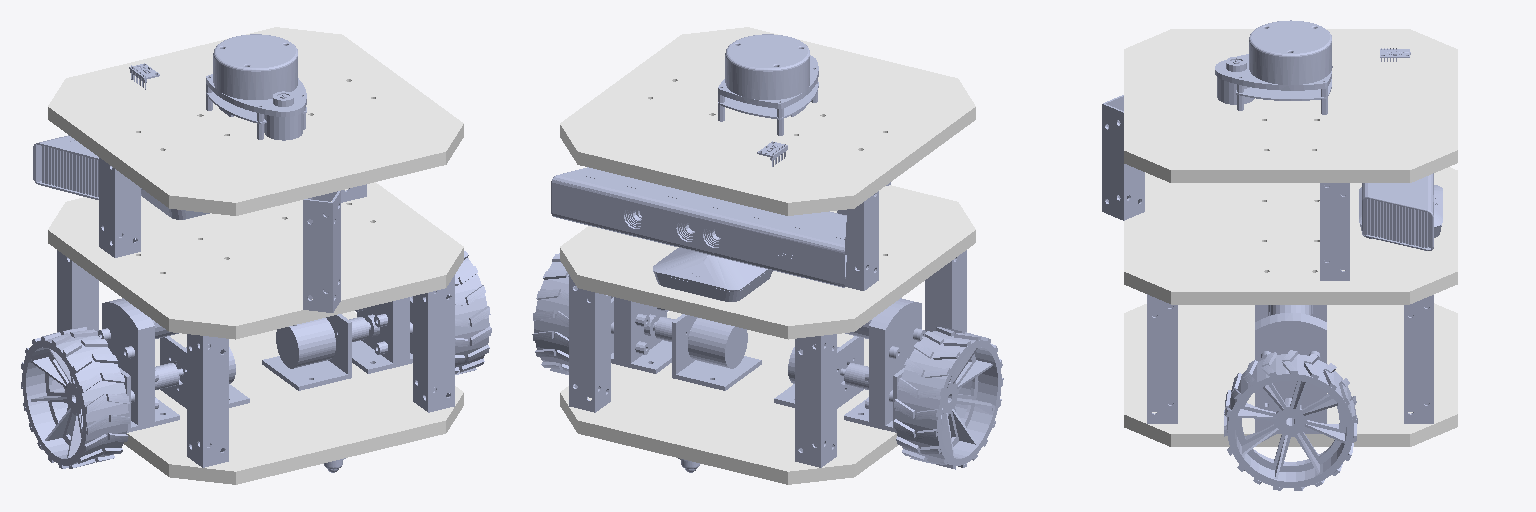
--- Facts derived from the render (not from the file) ---
The picture shows the robot from 3 angles, left to right: view 1: azimuth 30°, elevation 25°; view 2: azimuth 150°, elevation 25°; view 3: azimuth 270°, elevation 25°; orthographic projection.
Robot: turtlebot3_pro_max123 — 31 links, 30 joints (6 continuous, 24 fixed); root link Ground Floor; default pose: every joint at zero.
Visible links, largest first — view 1: Second_Floor, First_Floor, Ground Floor, Ground_Floor_Vertical_Links, Right_Wheel, RP_LiDAR_A1, First_Floor_Vertical_Links, Right_Motor, Left_Wheel, Kinect_Camera, Left_Encoder_Angle_Plate, Left_Motor (+4 smaller); view 2: Second_Floor, Ground Floor, First_Floor, Kinect_Camera, Ground_Floor_Vertical_Links, Right_Wheel, RP_LiDAR_A1, Right_Motor, Kinect_Base, Left_Wheel, First_Floor_Vertical_Links, Left_Encoder_Angle_Plate (+5 smaller); view 3: Second_Floor, First_Floor, Ground Floor, Left_Wheel, RP_LiDAR_A1, Ground_Floor_Vertical_Links, First_Floor_Vertical_Links, Kinect_Camera, Left_Motor, Left_Motor_Plate, Kinect_Base.
Boxes of the visible links, bbox=[...] form: Second_Floor: bbox=[48, 27, 463, 215]; First_Floor: bbox=[48, 182, 463, 339]; Ground Floor: bbox=[124, 311, 463, 484]; Ground_Floor_Vertical_Links: bbox=[57, 250, 454, 467]; Right_Wheel: bbox=[21, 326, 130, 468]; RP_LiDAR_A1: bbox=[206, 34, 306, 140]; First_Floor_Vertical_Links: bbox=[99, 158, 366, 312]; Right_Motor: bbox=[98, 298, 178, 425]; Left_Wheel: bbox=[411, 251, 491, 374]; Kinect_Camera: bbox=[33, 135, 142, 199]; Left_Encoder_Angle_Plate: bbox=[262, 314, 351, 390]; Left_Motor: bbox=[355, 297, 412, 363]; Second_Floor: bbox=[560, 27, 975, 215]; Ground Floor: bbox=[560, 311, 897, 484]; First_Floor: bbox=[560, 185, 975, 339]; Kinect_Camera: bbox=[551, 167, 846, 287]; Ground_Floor_Vertical_Links: bbox=[569, 250, 966, 467]; Right_Wheel: bbox=[894, 327, 1003, 469]; RP_LiDAR_A1: bbox=[718, 34, 818, 135]; Right_Motor: bbox=[845, 298, 925, 425]; Kinect_Base: bbox=[653, 248, 772, 301]; Left_Wheel: bbox=[532, 253, 612, 374]; First_Floor_Vertical_Links: bbox=[837, 182, 890, 290]; Left_Encoder_Angle_Plate: bbox=[672, 314, 761, 390]; Second_Floor: bbox=[1124, 29, 1457, 182]; First_Floor: bbox=[1124, 167, 1457, 304]; Ground Floor: bbox=[1124, 303, 1457, 446]; Left_Wheel: bbox=[1224, 350, 1357, 490]; RP_LiDAR_A1: bbox=[1215, 20, 1332, 114]; Ground_Floor_Vertical_Links: bbox=[1147, 294, 1433, 423]; First_Floor_Vertical_Links: bbox=[1102, 95, 1349, 280]; Kinect_Camera: bbox=[1362, 173, 1433, 250]; Left_Motor: bbox=[1255, 305, 1326, 404]; Left_Motor_Plate: bbox=[1255, 380, 1326, 433]; Kinect_Base: bbox=[1359, 185, 1442, 238].
Size in the robot's own frame: 0.383 by 0.298 by 0.3307 metres.
30 mesh visuals loaded from 31 distinct referenced files (30 binary STL); not drawn: 1 (reference not matched to a file when rendering).

URDF robot description (turtlebot3_pro_max123):
<?xml version="1.0" encoding="utf-8"?>
<!-- This URDF was automatically created by SolidWorks to URDF Exporter! Originally created by Stephen Brawner ([email redacted]) 
     Commit Version: 1.6.0-1-g15f4949  Build Version: 1.6.7594.29634
     For more information, please see http://wiki.ros.org/sw_urdf_exporter -->
<robot
  name="turtlebot3_pro_max123">
  <link
    name="Ground Floor">
    <inertial>
      <origin
        xyz="4.70304717569314E-19 -1.51383696413054E-18 0.006"
        rpy="0 0 0" />
      <mass
        value="0.306175115098668" />
      <inertia
        ixx="0.00188258342887214"
        ixy="-1.06344407501349E-19"
        ixz="-9.60175745415004E-23"
        iyy="0.0018791495675708"
        iyz="1.14475544064493E-19"
        izz="0.00375438479368057" />
    </inertial>
    <visual>
      <origin
        xyz="0 0 0"
        rpy="0 0 0" />
      <geometry>
        <mesh
          filename="package://turtlebot3_pro_max123/meshes/Ground Floor.STL" />
      </geometry>
      <material
        name="">
        <color
          rgba="1 1 1 1" />
      </material>
    </visual>
    <collision>
      <origin
        xyz="0 0 0"
        rpy="0 0 0" />
      <geometry>
        <mesh
          filename="package://turtlebot3_pro_max123/meshes/Ground Floor_collision.STL" />
      </geometry>
    </collision>
  </link>
  <link
    name="Ground_Floor_Vertical_Links">
    <inertial>
      <origin
        xyz="-0.1073 -8.32667268468867E-17 -0.1073"
        rpy="0 0 0" />
      <mass
        value="0.0873427258771282" />
      <inertia
        ixx="0.000110813104969509"
        ixy="1.68389366232844E-08"
        ixz="1.07557713438902E-21"
        iyy="1.60586974010864E-05"
        iyz="-1.68389366232222E-08"
        izz="0.000110813104969509" />
    </inertial>
    <visual>
      <origin
        xyz="0 0 0"
        rpy="0 0 0" />
      <geometry>
        <mesh
          filename="package://turtlebot3_pro_max123/meshes/Ground_Floor_Vertical_Links.STL" />
      </geometry>
      <material
        name="">
        <color
          rgba="0.792156862745098 0.819607843137255 0.933333333333333 1" />
      </material>
    </visual>
    <collision>
      <origin
        xyz="0 0 0"
        rpy="0 0 0" />
      <geometry>
        <mesh
          filename="package://turtlebot3_pro_max123/meshes/Ground_Floor_Vertical_Links_collision.STL" />
      </geometry>
    </collision>
  </link>
  <joint
    name="Ground_Floor_Vertical_Links_Joint"
    type="fixed">
    <origin
      xyz="0.1073 0.1073 0.0720000000000001"
      rpy="1.5707963267949 0 1.5707963267949" />
    <parent
      link="Ground Floor" />
    <child
      link="Ground_Floor_Vertical_Links" />
    <axis
      xyz="0 0 0" />
  </joint>
  <link
    name="First_Floor">
    <inertial>
      <origin
        xyz="-7.86566268856647E-18 0.00600000000000023 3.94665955637125E-17"
        rpy="0 0 0" />
      <mass
        value="0.306175115098668" />
      <inertia
        ixx="0.00188258342887214"
        ixy="5.77401645268386E-24"
        ixz="-9.25547897022068E-20"
        iyy="0.00375438479368056"
        iyz="7.06684763120197E-19"
        izz="0.0018791495675708" />
    </inertial>
    <visual>
      <origin
        xyz="0 0 0"
        rpy="0 0 0" />
      <geometry>
        <mesh
          filename="package://turtlebot3_pro_max123/meshes/First_Floor.STL" />
      </geometry>
      <material
        name="">
        <color
          rgba="1 1 1 1" />
      </material>
    </visual>
    <collision>
      <origin
        xyz="0 0 0"
        rpy="0 0 0" />
      <geometry>
        <mesh
          filename="package://turtlebot3_pro_max123/meshes/First_Floor_collision.STL" />
      </geometry>
    </collision>
  </link>
  <joint
    name="First_Floor_Joint"
    type="fixed">
    <origin
      xyz="-0.1073 0.06 -0.1073"
      rpy="0 -1.5708 0" />
    <parent
      link="Ground_Floor_Vertical_Links" />
    <child
      link="First_Floor" />
    <axis
      xyz="0 0 0" />
  </joint>
  <link
    name="First_Floor_Vertical_Links">
    <inertial>
      <origin
        xyz="0.0974764231260202 -3.60822483003176E-16 0.0974766645992801"
        rpy="0 0 0" />
      <mass
        value="0.054275044407846" />
      <inertia
        ixx="4.94997932361172E-05"
        ixy="8.41946831165636E-09"
        ixz="0"
        iyy="9.9789824108148E-06"
        iyz="8.41946831165525E-09"
        izz="4.94997932361172E-05" />
    </inertial>
    <visual>
      <origin
        xyz="0 0 0"
        rpy="0 0 0" />
      <geometry>
        <mesh
          filename="package://turtlebot3_pro_max123/meshes/First_Floor_Vertical_Links.STL" />
      </geometry>
      <material
        name="">
        <color
          rgba="0.792156862745098 0.819607843137255 0.933333333333333 1" />
      </material>
    </visual>
    <collision>
      <origin
        xyz="0 0 0"
        rpy="0 0 0" />
      <geometry>
        <mesh
          filename="package://turtlebot3_pro_max123/meshes/First_Floor_Vertical_Links_collision.STL" />
      </geometry>
    </collision>
  </link>
  <joint
    name="First_Floor_Vertical_Links_Joint"
    type="fixed">
    <origin
      xyz="0 0.0619999999999999 -0.122039487757862"
      rpy="0 -0.785398163397447 -3.14159265358979" />
    <parent
      link="First_Floor" />
    <child
      link="First_Floor_Vertical_Links" />
    <axis
      xyz="0 0 0" />
  </joint>
  <link
    name="Second_Floor">
    <inertial>
      <origin
        xyz="-4.59978908314626E-17 0.00600000000000059 2.12960309672514E-18"
        rpy="0 0 0" />
      <mass
        value="0.306175115098668" />
      <inertia
        ixx="0.00188258342887214"
        ixy="1.06184538248409E-18"
        ixz="-1.15660529150226E-20"
        iyy="0.00375438479368057"
        iyz="2.28899169636148E-19"
        izz="0.0018791495675708" />
    </inertial>
    <visual>
      <origin
        xyz="0 0 0"
        rpy="0 0 0" />
      <geometry>
        <mesh
          filename="package://turtlebot3_pro_max123/meshes/Second_Floor.STL" />
      </geometry>
      <material
        name="">
        <color
          rgba="1 1 1 1" />
      </material>
    </visual>
    <collision>
      <origin
        xyz="0 0 0"
        rpy="0 0 0" />
      <geometry>
        <mesh
          filename="package://turtlebot3_pro_max123/meshes/Second_Floor_collision.STL" />
      </geometry>
    </collision>
  </link>
  <joint
    name="Second_Floor_Joint"
    type="fixed">
    <origin
      xyz="0.0862949493661165 -0.05 0.0862949493661169"
      rpy="3.14159265358979 0.785398163397447 0" />
    <parent
      link="First_Floor_Vertical_Links" />
    <child
      link="Second_Floor" />
    <axis
      xyz="0 0 0" />
  </joint>
  <link
    name="MPU9250">
    <inertial>
      <origin
        xyz="-0.118217830949175 -0.00104259470994378 -0.162868160967249"
        rpy="0 0 0" />
      <mass
        value="0.000628851677164537" />
      <inertia
        ixx="2.84177895500367E-08"
        ixy="-3.75278292675917E-14"
        ixz="4.57750732123504E-14"
        iyy="3.75953504496454E-08"
        iyz="-4.2587819218147E-14"
        izz="1.06612939030681E-08" />
    </inertial>
    <visual>
      <origin
        xyz="0 0 0"
        rpy="0 0 0" />
      <geometry>
        <mesh
          filename="package://turtlebot3_pro_max123/meshes/MPU9250.STL" />
      </geometry>
      <material
        name="">
        <color
          rgba="0.792156862745098 0.819607843137255 0.933333333333333 1" />
      </material>
    </visual>
    <collision>
      <origin
        xyz="0 0 0"
        rpy="0 0 0" />
      <geometry>
        <mesh
          filename="package://turtlebot3_pro_max123/meshes/MPU9250_collision.STL" />
      </geometry>
    </collision>
  </link>
  <joint
    name="MPU9250_joint"
    type="fixed">
    <origin
      xyz="-0.0625950000000004 0.0295700000000001 -0.0751399999999997"
      rpy="3.14159265358979 0 3.14159265358979" />
    <parent
      link="Second_Floor" />
    <child
      link="MPU9250" />
    <axis
      xyz="0 0 0" />
  </joint>
  <link
    name="RP_LiDAR_A1">
    <inertial>
      <origin
        xyz="-0.0210078094365039 0.0106966269502565 -9.1634219840406E-05"
        rpy="0 0 0" />
      <mass
        value="1.3324811049663" />
      <inertia
        ixx="0.000615842284246016"
        ixy="-0.000158500451241491"
        ixz="7.98987037271028E-07"
        iyy="0.0010983934471466"
        iyz="-3.10024618929427E-06"
        izz="0.000961697044037426" />
    </inertial>
    <visual>
      <origin
        xyz="0 0 0"
        rpy="0 0 0" />
      <geometry>
        <mesh
          filename="package://turtlebot3_pro_max123/meshes/RP_LiDAR_A1.STL" />
      </geometry>
      <material
        name="">
        <color
          rgba="0.792156862745098 0.819607843137255 0.933333333333333 1" />
      </material>
    </visual>
    <collision>
      <origin
        xyz="0 0 0"
        rpy="0 0 0" />
      <geometry>
        <mesh
          filename="package://turtlebot3_pro_max123/meshes/RP_LiDAR_A1_collision.STL" />
      </geometry>
    </collision>
  </link>
  <joint
    name="RP_LiDAR_A1_Joint"
    type="fixed">
    <origin
      xyz="0 0.0366 0.0142499999999999"
      rpy="0 -1.5707963267949 0" />
    <parent
      link="Second_Floor" />
    <child
      link="RP_LiDAR_A1" />
    <axis
      xyz="0 0 0" />
  </joint>
  <link
    name="Kinect_Base">
    <inertial>
      <origin
        xyz="-0.00425918193058036 0.00943012756099207 -0.184943395044608"
        rpy="0 0 0" />
      <mass
        value="0.100919540065879" />
      <inertia
        ixx="3.77313887602913E-05"
        ixy="-6.5453153474285E-12"
        ixz="1.045286227031E-10"
        iyy="8.33159866791771E-05"
        iyz="-2.65982400359128E-10"
        izz="5.25438545962697E-05" />
    </inertial>
    <visual>
      <origin
        xyz="0 0 0"
        rpy="0 0 0" />
      <geometry>
        <mesh
          filename="package://turtlebot3_pro_max123/meshes/Kinect_Base.STL" />
      </geometry>
      <material
        name="">
        <color
          rgba="0.792156862745098 0.819607843137255 0.933333333333333 1" />
      </material>
    </visual>
    <collision>
      <origin
        xyz="0 0 0"
        rpy="0 0 0" />
      <geometry>
        <mesh
          filename="package://turtlebot3_pro_max123/meshes/Kinect_Base_collision.STL" />
      </geometry>
    </collision>
  </link>
  <joint
    name="Kinect_Base_Joint"
    type="fixed">
    <origin
      xyz="0.00212959588475317 0.0125 0.0924719063318718"
      rpy="0 0 0" />
    <parent
      link="First_Floor" />
    <child
      link="Kinect_Base" />
    <axis
      xyz="0 0 0" />
  </joint>
  <link
    name="Kinect_Camera">
    <inertial>
      <origin
        xyz="-0.00473113870691642 0.0188109981011434 -0.181056666701459"
        rpy="0 0 0" />
      <mass
        value="0.545535346057759" />
      <inertia
        ixx="0.000225893798697897"
        ixy="3.46017963839556E-08"
        ixz="-2.56609747502066E-06"
        iyy="0.0028794245905872"
        iyz="-1.47528550669068E-07"
        izz="0.00278997231042472" />
    </inertial>
    <visual>
      <origin
        xyz="0 0 0"
        rpy="0 0 0" />
      <geometry>
        <mesh
          filename="package://turtlebot3_pro_max123/meshes/Kinect_Camera.STL" />
      </geometry>
      <material
        name="">
        <color
          rgba="0.792156862745098 0.819607843137255 0.933333333333333 1" />
      </material>
    </visual>
    <collision>
      <origin
        xyz="0 0 0"
        rpy="0 0 0" />
      <geometry>
        <mesh
          filename="package://turtlebot3_pro_max123/meshes/Kinect_Camera_collision.STL" />
      </geometry>
    </collision>
  </link>
  <joint
    name="Kinect_Camera_Joint"
    type="fixed">
    <origin
      xyz="0.000138403787494056 0.034 -0.00247190633187176"
      rpy="0 0 0" />
    <parent
      link="Kinect_Base" />
    <child
      link="Kinect_Camera" />
    <axis
      xyz="0 0 0" />
  </joint>
  <link
    name="Front_Castor_Wheel">
    <inertial>
      <origin
        xyz="-0.254 2.88450778881281E-17 0.00452901974820012"
        rpy="0 0 0" />
      <mass
        value="0.00176851508275407" />
      <inertia
        ixx="7.19459865531897E-08"
        ixy="1.04003421744339E-22"
        ixz="4.19880617968765E-23"
        iyy="7.1945986553189E-08"
        iyz="2.56102315964772E-22"
        izz="9.78322787119691E-08" />
    </inertial>
    <visual>
      <origin
        xyz="0 0 0"
        rpy="0 0 0" />
      <geometry>
        <mesh
          filename="package://turtlebot3_pro_max123/meshes/Front_Castor_Wheel.STL" />
      </geometry>
      <material
        name="">
        <color
          rgba="0.792156862745098 0.819607843137255 0.933333333333333 1" />
      </material>
    </visual>
    <collision>
      <origin
        xyz="0 0 0"
        rpy="0 0 0" />
      <geometry>
        <mesh
          filename="package://turtlebot3_pro_max123/meshes/Front_Castor_Wheel_collision.STL" />
      </geometry>
    </collision>
  </link>
  <joint
    name="Front_Castor_Wheel_Joint"
    type="fixed">
    <origin
      xyz="0 -0.127 0"
      rpy="3.14159265358979 0 -1.5707963267949" />
    <parent
      link="Ground Floor" />
    <child
      link="Front_Castor_Wheel" />
    <axis
      xyz="0 0 0" />
  </joint>
  <link
    name="Front_Castor_Ball">
    <inertial>
      <origin
        xyz="0.254 0 2.01637250299425E-10"
        rpy="0 0 0" />
      <mass
        value="0.000523598775598299" />
      <inertia
        ixx="5.23598775598299E-09"
        ixy="-3.25208566183215E-57"
        ixz="9.3549344069031E-52"
        iyy="5.23598775598299E-09"
        iyz="4.44108029208484E-35"
        izz="5.23598775598299E-09" />
    </inertial>
    <visual>
      <origin
        xyz="0 0 0"
        rpy="0 0 0" />
      <geometry>
        <mesh
          filename="package://turtlebot3_pro_max123/meshes/Front_Castor_Ball.STL" />
      </geometry>
      <material
        name="">
        <color
          rgba="0.792156862745098 0.819607843137255 0.933333333333333 1" />
      </material>
    </visual>
    <collision>
      <origin
        xyz="0 0 0"
        rpy="0 0 0" />
      <geometry>
        <mesh
          filename="package://turtlebot3_pro_max123/meshes/Front_Castor_Ball_collision.STL" />
      </geometry>
    </collision>
  </link>
  <joint
    name="Front_Castor_Ball_Joint"
    type="fixed">
    <origin
      xyz="0 0 0.0119999998991814"
      rpy="0 0 3.14159265358979" />
    <parent
      link="Front_Castor_Wheel" />
    <child
      link="Front_Castor_Ball" />
    <axis
      xyz="0 0 0" />
  </joint>
  <link
    name="Back_Castor_Wheel">
    <inertial>
      <origin
        xyz="-1.99732395248982E-17 0.254 0.00452901974820007"
        rpy="0 0 0" />
      <mass
        value="0.00176851508275407" />
      <inertia
        ixx="7.19459865531896E-08"
        ixy="1.02595151896986E-22"
        ixz="-2.99121332209767E-23"
        iyy="7.19459865531889E-08"
        iyz="2.61586404997334E-22"
        izz="9.78322787119691E-08" />
    </inertial>
    <visual>
      <origin
        xyz="0 0 0"
        rpy="0 0 0" />
      <geometry>
        <mesh
          filename="package://turtlebot3_pro_max123/meshes/Back_Castor_Wheel.STL" />
      </geometry>
      <material
        name="">
        <color
          rgba="0.792156862745098 0.819607843137255 0.933333333333333 1" />
      </material>
    </visual>
    <collision>
      <origin
        xyz="0 0 0"
        rpy="0 0 0" />
      <geometry>
        <mesh
          filename="package://turtlebot3_pro_max123/meshes/Back_Castor_Wheel_collision.STL" />
      </geometry>
    </collision>
  </link>
  <joint
    name="Back_Castor_Wheel_Joint"
    type="fixed">
    <origin
      xyz="0 0.127 0"
      rpy="-3.14159265358979 0 0" />
    <parent
      link="Ground Floor" />
    <child
      link="Back_Castor_Wheel" />
    <axis
      xyz="0 0 0" />
  </joint>
  <link
    name="Back_Castor_Ball">
    <inertial>
      <origin
        xyz="-3.5808674788745E-17 -0.253999999899181 4.0327718595079E-10"
        rpy="0 0 0" />
      <mass
        value="0.000523598775598299" />
      <inertia
        ixx="5.23598775598299E-09"
        ixy="-5.16987882845663E-26"
        ixz="-2.06795153138256E-25"
        iyy="5.23598775598299E-09"
        iyz="5.16987882845642E-26"
        izz="5.23598775598299E-09" />
    </inertial>
    <visual>
      <origin
        xyz="0 0 0"
        rpy="0 0 0" />
      <geometry>
        <mesh
          filename="package://turtlebot3_pro_max123/meshes/Back_Castor_Ball.STL" />
      </geometry>
      <material
        name="">
        <color
          rgba="0.792156862745098 0.819607843137255 0.933333333333333 1" />
      </material>
    </visual>
    <collision>
      <origin
        xyz="0 0 0"
        rpy="0 0 0" />
      <geometry>
        <mesh
          filename="package://turtlebot3_pro_max123/meshes/Back_Castor_Ball_collision.STL" />
      </geometry>
    </collision>
  </link>
  <joint
    name="Back_Castor_Ball_Joint"
    type="fixed">
    <origin
      xyz="0 0 0.0120000001008186"
      rpy="-3.14159265358978 0 0" />
    <parent
      link="Back_Castor_Wheel" />
    <child
      link="Back_Castor_Ball" />
    <axis
      xyz="0 0 0" />
  </joint>
  <link
    name="Left_Encoder_Angle_Plate">
    <inertial>
      <origin
        xyz="4.00204699044691E-16 0.0147826849637491 -0.0134823723164557"
        rpy="0 0 0" />
      <mass
        value="0.0219254603042376" />
      <inertia
        ixx="1.11096889660457E-05"
        ixy="-3.62497572674904E-21"
        ixz="1.9290648439196E-20"
        iyy="1.2452291796096E-05"
        iyz="-3.21812145037989E-06"
        izz="1.24772407573447E-05" />
    </inertial>
    <visual>
      <origin
        xyz="0 0 0"
        rpy="0 0 0" />
      <geometry>
        <mesh
          filename="package://turtlebot3_pro_max123/meshes/Left_Encoder_Angle_Plate.STL" />
      </geometry>
      <material
        name="">
        <color
          rgba="0.792156862745098 0.819607843137255 0.933333333333333 1" />
      </material>
    </visual>
    <collision>
      <origin
        xyz="0 0 0"
        rpy="0 0 0" />
      <geometry>
        <mesh
          filename="package://turtlebot3_pro_max123/meshes/Left_Encoder_Angle_Plate.STL" />
      </geometry>
    </collision>
  </link>
  <joint
    name="Left_Encoder_Angle_Plate_Joint"
    type="fixed">
    <origin
      xyz="0.0739999999999819 0 0.012"
      rpy="-3.14159265358979 0 -1.5707963267949" />
    <parent
      link="Ground Floor" />
    <child
      link="Left_Encoder_Angle_Plate" />
    <axis
      xyz="0 0 0" />
  </joint>
  <link
    name="Left_Encoder">
    <inertial>
      <origin
        xyz="-2.07796140537508E-10 -9.19971150234455E-05 0.0180755929019836"
        rpy="0 0 0" />
      <mass
        value="0.0410483914806997" />
      <inertia
        ixx="8.2840083563058E-06"
        ixy="-1.57526967029876E-13"
        ixz="-3.75754148520815E-14"
        iyy="8.18832869190217E-06"
        iyz="-4.56008928061674E-08"
        izz="7.30004066465015E-06" />
    </inertial>
    <visual>
      <origin
        xyz="0 0 0"
        rpy="0 0 0" />
      <geometry>
        <mesh
          filename="package://turtlebot3_pro_max123/meshes/Left_Encoder.STL" />
      </geometry>
      <material
        name="">
        <color
          rgba="0.792156862745098 0.819607843137255 0.933333333333333 1" />
      </material>
    </visual>
    <collision>
      <origin
        xyz="0 0 0"
        rpy="0 0 0" />
      <geometry>
        <mesh
          filename="package://turtlebot3_pro_max123/meshes/Left_Encoder_collision.STL" />
      </geometry>
    </collision>
  </link>
  <joint
    name="Left_Encoder_Joint"
    type="fixed">
    <origin
      xyz="0 0.044 -0.0270000000000001"
      rpy="1.5707963267949 -0.0872664625996489 0" />
    <parent
      link="Left_Encoder_Angle_Plate" />
    <child
      link="Left_Encoder" />
    <axis
      xyz="0 0 0" />
  </joint>
  <link
    name="Left_Encoder_Shaft">
    <inertial>
      <origin
        xyz="4.77048955893622E-16 4.16333634234434E-17 0.00999999999999997"
        rpy="0 0 0" />
      <mass
        value="0.000565486677646163" />
      <inertia
        ixx="2.01219009462426E-08"
        ixy="-2.06795153138257E-25"
        ixz="-9.60777382812035E-23"
        iyy="2.01219009462426E-08"
        iyz="3.74750982407412E-24"
        izz="2.54469004940773E-09" />
    </inertial>
    <visual>
      <origin
        xyz="0 0 0"
        rpy="0 0 0" />
      <geometry>
        <mesh
          filename="package://turtlebot3_pro_max123/meshes/Left_Encoder_Shaft.STL" />
      </geometry>
      <material
        name="">
        <color
          rgba="0.792156862745098 0.819607843137255 0.933333333333333 1" />
      </material>
    </visual>
    <collision>
      <origin
        xyz="0 0 0"
        rpy="0 0 0" />
      <geometry>
        <mesh
          filename="package://turtlebot3_pro_max123/meshes/Left_Encoder_Shaft_collision.STL" />
      </geometry>
    </collision>
  </link>
  <joint
    name="Left_Encoder_Shaft_Joint"
    type="continuous">
    <origin
      xyz="0 0 0.033"
      rpy="0 0 -0.034866" />
    <parent
      link="Left_Encoder" />
    <child
      link="Left_Encoder_Shaft" />
    <axis
      xyz="0 0 1" />
    <limit
      lower="0"
      upper="0"
      effort="4.9"
      velocity="10.472" />
  </joint>
  <link
    name="Left_Encoder_Coupler">
    <inertial>
      <origin
        xyz="7.63278329429795E-17 0 0.0122557411273487"
        rpy="0 0 0" />
      <mass
        value="0.00601929152427804" />
      <inertia
        ixx="4.32085946695518E-07"
        ixy="0"
        ixz="3.33799863767204E-22"
        iyy="4.32085946695518E-07"
        iyz="2.35146849594771E-22"
        izz="3.01768038535058E-07" />
    </inertial>
    <visual>
      <origin
        xyz="0 0 0"
        rpy="0 0 0" />
      <geometry>
        <mesh
          filename="package://turtlebot3_pro_max123/meshes/Left_Encoder_Coupler.STL" />
      </geometry>
      <material
        name="">
        <color
          rgba="0.792156862745098 0.819607843137255 0.933333333333333 1" />
      </material>
    </visual>
    <collision>
      <origin
        xyz="0 0 0"
        rpy="0 0 0" />
      <geometry>
        <mesh
          filename="package://turtlebot3_pro_max123/meshes/Left_Encoder_Coupler_collision.STL" />
      </geometry>
    </collision>
  </link>
  <joint
    name="Left_Encoder_Coupler_Joint"
    type="fixed">
    <origin
      xyz="0 0 0.039"
      rpy="-3.1416 0 0.38751" />
    <parent
      link="Left_Encoder_Shaft" />
    <child
      link="Left_Encoder_Coupler" />
    <axis
      xyz="0 0 1" />
    <limit
      effort="4.9"
      velocity="10.472" />
  </joint>
  <link
    name="Left_Motor_Shaft">
    <inertial>
      <origin
        xyz="0.0329232788564365 -5.76441713439138E-05 -2.82409647163195E-16"
        rpy="0 0 0" />
      <mass
        value="0.00321285894925607" />
      <inertia
        ixx="2.54143918564532E-08"
        ixy="-4.70845713561819E-09"
        ixz="-7.37534175746627E-22"
        iyy="1.12774288289305E-06"
        iyz="-6.03695651454272E-24"
        izz="1.12717659926779E-06" />
    </inertial>
    <visual>
      <origin
        xyz="0 0 0"
        rpy="0 0 0" />
      <geometry>
        <mesh
          filename="package://turtlebot3_pro_max123/meshes/Left_Motor_Shaft.STL" />
      </geometry>
      <material
        name="">
        <color
          rgba="0.792156862745098 0.819607843137255 0.933333333333333 1" />
      </material>
    </visual>
    <collision>
      <origin
        xyz="0 0 0"
        rpy="0 0 0" />
      <geometry>
        <mesh
          filename="package://turtlebot3_pro_max123/meshes/Left_Motor_Shaft_collision.STL" />
      </geometry>
    </collision>
  </link>
  <joint
    name="Left_Motor_Shaft_Joint"
    type="continuous">
    <origin
      xyz="0 0 -0.055"
      rpy="2.7017 -1.5708 0" />
    <parent
      link="Left_Encoder_Coupler" />
    <child
      link="Left_Motor_Shaft" />
    <axis
      xyz="1 0 0" />
    <limit
      effort="4.9"
      velocity="10.472" />
  </joint>
  <link
    name="Left_Wheel">
    <inertial>
      <origin
        xyz="3.36536354339501E-15 0.00070994558924628 -3.30291349825984E-15"
        rpy="0 0 0" />
      <mass
        value="0.11502952485387" />
      <inertia
        ixx="0.000119851353018076"
        ixy="-1.15256456899608E-18"
        ixz="-1.03380032399208E-15"
        iyy="0.000215063064031578"
        iyz="-1.31378331092281E-18"
        izz="0.000119851353015825" />
    </inertial>
    <visual>
      <origin
        xyz="0 0 0"
        rpy="0 0 0" />
      <geometry>
        <mesh
          filename="package://turtlebot3_pro_max123/meshes/Left_Wheel.STL" />
      </geometry>
      <material
        name="">
        <color
          rgba="0.796078431372549 0.823529411764706 0.937254901960784 1" />
      </material>
    </visual>
    <collision>
      <origin
        xyz="0 0 0"
        rpy="0 0 0" />
      <geometry>
        <mesh
          filename="package://turtlebot3_pro_max123/meshes/Left_Wheel_collision.STL" />
      </geometry>
    </collision>
  </link>
  <joint
    name="Left_Wheel_Joint"
    type="continuous">
    <origin
      xyz="-0.0145 0 0"
      rpy="0 -0.43293 -1.5708" />
    <parent
      link="Left_Motor_Shaft" />
    <child
      link="Left_Wheel" />
    <axis
      xyz="0 1 0" />
    <limit
      effort="4.9"
      velocity="10.472" />
  </joint>
  <link
    name="Left_Motor_Plate">
    <inertial>
      <origin
        xyz="0.0142230422275223 0.0140305783109308 -5.33867520842575E-16"
        rpy="0 0 0" />
      <mass
        value="0.0228522301370466" />
      <inertia
        ixx="1.26656359081654E-05"
        ixy="3.36042653670861E-06"
        ixz="1.47286160264012E-21"
        iyy="1.25927964265988E-05"
        iyz="1.03529500452339E-20"
        izz="1.14147397394386E-05" />
    </inertial>
    <visual>
      <origin
        xyz="0 0 0"
        rpy="0 0 0" />
      <geometry>
        <mesh
          filename="package://turtlebot3_pro_max123/meshes/Left_Motor_Plate.STL" />
      </geometry>
      <material
        name="">
        <color
          rgba="0.792156862745098 0.819607843137255 0.933333333333333 1" />
      </material>
    </visual>
    <collision>
      <origin
        xyz="0 0 0"
        rpy="0 0 0" />
      <geometry>
        <mesh
          filename="package://turtlebot3_pro_max123/meshes/Left_Motor_Plate_collision.STL" />
      </geometry>
    </collision>
  </link>
  <joint
    name="Left_Motor_Plate_Joint"
    type="fixed">
    <origin
      xyz="0.14 0 0.012"
      rpy="1.5707963267949 0 -3.14159265358979" />
    <parent
      link="Ground Floor" />
    <child
      link="Left_Motor_Plate" />
    <axis
      xyz="0 0 0" />
  </joint>
  <link
    name="Left_Motor">
    <inertial>
      <origin
        xyz="-2.08906514400806E-10 0.0342490788500103 -0.0206801558865177"
        rpy="0 0 0" />
      <mass
        value="0.148158669748596" />
      <inertia
        ixx="0.000166100474730073"
        ixy="-1.94433964867423E-11"
        ixz="2.59596120614609E-13"
        iyy="8.88051318091148E-05"
        iyz="3.88331046293828E-05"
        izz="0.000139077222017456" />
    </inertial>
    <visual>
      <origin
        xyz="0 0 0"
        rpy="0 0 0" />
      <geometry>
        <mesh
          filename="package://turtlebot3_pro_max123/meshes/Left_Motor.STL" />
      </geometry>
      <material
        name="">
        <color
          rgba="0.792156862745098 0.819607843137255 0.933333333333333 1" />
      </material>
    </visual>
    <collision>
      <origin
        xyz="0 0 0"
        rpy="0 0 0" />
      <geometry>
        <mesh
          filename="package://turtlebot3_pro_max123/meshes/Left_Motor.STL" />
      </geometry>
    </collision>
  </link>
  <joint
    name="Left_Motor_Joint"
    type="fixed">
    <origin
      xyz="0.0109999999999999 0.0270000000000001 0"
      rpy="0 -1.5707963267949 0" />
    <parent
      link="Left_Motor_Plate" />
    <child
      link="Left_Motor" />
    <axis
      xyz="0 0 0" />
  </joint>
  <link
    name="Left_Motor_Shaft_1">
    <inertial>
      <origin
        xyz="0.0374232788564366 -5.76441713438167E-05 -2.65173308852266E-16"
        rpy="0 0 0" />
      <mass
        value="0.00321285894925607" />
      <inertia
        ixx="2.54143918564532E-08"
        ixy="-4.70845713561819E-09"
        ixz="-7.37534175746627E-22"
        iyy="1.12774288289305E-06"
        iyz="-6.03695651454272E-24"
        izz="1.12717659926779E-06" />
    </inertial>
    <visual>
      <origin
        xyz="0 0 0"
        rpy="0 0 0" />
      <geometry>
        <mesh
          filename="package://turtlebot3_pro_max123/meshes/Left_Motor_Shaft_1.STL" />
      </geometry>
      <material
        name="">
        <color
          rgba="0.792156862745098 0.819607843137255 0.933333333333333 1" />
      </material>
    </visual>
    <collision>
      <origin
        xyz="0 0 0"
        rpy="0 0 0" />
      <geometry>
        <mesh
          filename="package://turtlebot3_pro_max123/meshes/Left_Motor_Shaft_1_collision.STL" />
      </geometry>
    </collision>
  </link>
  <joint
    name="Left_Motor_Shaft_1_Joint"
    type="fixed">
    <origin
      xyz="0 0 0.0324999999999999"
      rpy="0 1.5707963267949 0" />
    <parent
      link="Left_Motor" />
    <child
      link="Left_Motor_Shaft_1" />
    <axis
      xyz="-1 0 0" />
    <limit
      lower="0"
      upper="0"
      effort="4.9"
      velocity="10.472" />
  </joint>
  <link
    name="Right_Encoder_Angle_Plate">
    <inertial>
      <origin
        xyz="1.27979760641119E-17 0.0147826849637491 -0.0134823723164558"
        rpy="0 0 0" />
      <mass
        value="0.0219254603042377" />
      <inertia
        ixx="1.11096889660458E-05"
        ixy="-4.16300094428234E-22"
        ixz="-5.96614307713464E-21"
        iyy="1.2452291796096E-05"
        iyz="-3.2181214503799E-06"
        izz="1.24772407573447E-05" />
    </inertial>
    <visual>
      <origin
        xyz="0 0 0"
        rpy="0 0 0" />
      <geometry>
        <mesh
          filename="package://turtlebot3_pro_max123/meshes/Right_Encoder_Angle_Plate.STL" />
      </geometry>
      <material
        name="">
        <color
          rgba="0.792156862745098 0.819607843137255 0.933333333333333 1" />
      </material>
    </visual>
    <collision>
      <origin
        xyz="0 0 0"
        rpy="0 0 0" />
      <geometry>
        <mesh
          filename="package://turtlebot3_pro_max123/meshes/Right_Encoder_Angle_Plate.STL" />
      </geometry>
    </collision>
  </link>
  <joint
    name="Right_Encoder_Angle_Plate_Joint"
    type="fixed">
    <origin
      xyz="-0.0739999999999999 0 0.012"
      rpy="-3.14159265358979 0 1.5707963267949" />
    <parent
      link="Ground Floor" />
    <child
      link="Right_Encoder_Angle_Plate" />
    <axis
      xyz="0 0 0" />
  </joint>
  <link
    name="Right_Encoder">
    <inertial>
      <origin
        xyz="-2.07795215062534E-10 -9.19971150235843E-05 0.0180755929019836"
        rpy="0 0 0" />
      <mass
        value="0.0410483914806997" />
      <inertia
        ixx="8.28400835630581E-06"
        ixy="-1.57526966659299E-13"
        ixz="-3.75754073472705E-14"
        iyy="8.18832869190217E-06"
        iyz="-4.56008928061678E-08"
        izz="7.30004066465015E-06" />
    </inertial>
    <visual>
      <origin
        xyz="0 0 0"
        rpy="0 0 0" />
      <geometry>
        <mesh
          filename="package://turtlebot3_pro_max123/meshes/Right_Encoder.STL" />
      </geometry>
      <material
        name="">
        <color
          rgba="0.792156862745098 0.819607843137255 0.933333333333333 1" />
      </material>
    </visual>
    <collision>
      <origin
        xyz="0 0 0"
        rpy="0 0 0" />
      <geometry>
        <mesh
          filename="package://turtlebot3_pro_max123/meshes/Right_Encoder_collision.STL" />
      </geometry>
    </collision>
  </link>
  <joint
    name="Right_Encoder_Joint"
    type="fixed">
    <origin
      xyz="0 0.044 -0.027"
      rpy="1.5707963267949 -0.0872664625996818 0" />
    <parent
      link="Right_Encoder_Angle_Plate" />
    <child
      link="Right_Encoder" />
    <axis
      xyz="0 0 0" />
  </joint>
  <link
    name="Right_Encoder_Shaft">
    <inertial>
      <origin
        xyz="1.33053290607421E-15 -6.93889390390723E-17 0.01"
        rpy="0 0 0" />
      <mass
        value="0.000565486677646163" />
      <inertia
        ixx="2.01219009462426E-08"
        ixy="0"
        ixz="2.43923777110234E-23"
        iyy="2.01219009462426E-08"
        iyz="-1.72092758554424E-26"
        izz="2.54469004940773E-09" />
    </inertial>
    <visual>
      <origin
        xyz="0 0 0"
        rpy="0 0 0" />
      <geometry>
        <mesh
          filename="package://turtlebot3_pro_max123/meshes/Right_Encoder_Shaft.STL" />
      </geometry>
      <material
        name="">
        <color
          rgba="0.792156862745098 0.819607843137255 0.933333333333333 1" />
      </material>
    </visual>
    <collision>
      <origin
        xyz="0 0 0"
        rpy="0 0 0" />
      <geometry>
        <mesh
          filename="package://turtlebot3_pro_max123/meshes/Right_Encoder_Shaft_collision.STL" />
      </geometry>
    </collision>
  </link>
  <joint
    name="Right_Encoder_Shaft_Joint"
    type="continuous">
    <origin
      xyz="0 0 0.033"
      rpy="0 0 -0.034866" />
    <parent
      link="Right_Encoder" />
    <child
      link="Right_Encoder_Shaft" />
    <axis
      xyz="0 0 1" />
    <limit
      lower="0"
      upper="0"
      effort="4.9"
      velocity="10.472" />
  </joint>
  <link
    name="Right_Encoder_Coupler">
    <inertial>
      <origin
        xyz="-1.87350135405495E-16 4.31078783780237E-16 0.0122557411273485"
        rpy="0 0 0" />
      <mass
        value="0.00601929152427805" />
      <inertia
        ixx="4.32085946695519E-07"
        ixy="3.55687663397802E-23"
        ixz="-1.90783876858057E-22"
        iyy="4.32085946695519E-07"
        iyz="4.74326771450322E-22"
        izz="3.01768038535058E-07" />
    </inertial>
    <visual>
      <origin
        xyz="0 0 0"
        rpy="0 0 0" />
      <geometry>
        <mesh
          filename="package://turtlebot3_pro_max123/meshes/Right_Encoder_Coupler.STL" />
      </geometry>
      <material
        name="">
        <color
          rgba="0.792156862745098 0.819607843137255 0.933333333333333 1" />
      </material>
    </visual>
    <collision>
      <origin
        xyz="0 0 0"
        rpy="0 0 0" />
      <geometry>
        <mesh
          filename="package://turtlebot3_pro_max123/meshes/Right_Encoder_Coupler_collision.STL" />
      </geometry>
    </collision>
  </link>
  <joint
    name="Right_Encoder_Coupler_Joint"
    type="fixed">
    <origin
      xyz="0 0 0.039"
      rpy="3.1416 0 -1.594" />
    <parent
      link="Right_Encoder_Shaft" />
    <child
      link="Right_Encoder_Coupler" />
    <axis
      xyz="0 0 1" />
    <limit
      effort="4.9"
      velocity="10.472" />
  </joint>
  <link
    name="Right_Motor_Shaft">
    <inertial>
      <origin
        xyz="0.0329232788564363 -5.76441713438861E-05 4.146848295667E-17"
        rpy="0 0 0" />
      <mass
        value="0.00321285894925607" />
      <inertia
        ixx="2.54143918564532E-08"
        ixy="-4.70845713561842E-09"
        ixz="-2.24226760769052E-25"
        iyy="1.12774288289305E-06"
        iyz="-3.27313705451804E-25"
        izz="1.12717659926779E-06" />
    </inertial>
    <visual>
      <origin
        xyz="0 0 0"
        rpy="0 0 0" />
      <geometry>
        <mesh
          filename="package://turtlebot3_pro_max123/meshes/Right_Motor_Shaft.STL" />
      </geometry>
      <material
        name="">
        <color
          rgba="0.792156862745098 0.819607843137255 0.933333333333333 1" />
      </material>
    </visual>
    <collision>
      <origin
        xyz="0 0 0"
        rpy="0 0 0" />
      <geometry>
        <mesh
          filename="package://turtlebot3_pro_max123/meshes/Right_Motor_Shaft_collision.STL" />
      </geometry>
    </collision>
  </link>
  <joint
    name="Right_Motor_Shaft_Joint"
    type="continuous">
    <origin
      xyz="0 0 -0.055"
      rpy="1.6 -1.5708 0" />
    <parent
      link="Right_Encoder_Coupler" />
    <child
      link="Right_Motor_Shaft" />
    <axis
      xyz="1 0 0" />
    <limit
      effort="4.9"
      velocity="10.472" />
  </joint>
  <link
    name="Right_Wheel">
    <inertial>
      <origin
        xyz="-2.67841304690819E-15 -0.0137900544107539 -2.85882428840978E-15"
        rpy="0 0 0" />
      <mass
        value="0.11502952485387" />
      <inertia
        ixx="0.000119851353016967"
        ixy="-2.72969876016216E-18"
        ixz="-4.73013690932902E-16"
        iyy="0.000215063064031778"
        iyz="2.02352172612603E-18"
        izz="0.000119851353017134" />
    </inertial>
    <visual>
      <origin
        xyz="0 0 0"
        rpy="0 0 0" />
      <geometry>
        <mesh
          filename="package://turtlebot3_pro_max123/meshes/Right_Wheel.STL" />
      </geometry>
      <material
        name="">
        <color
          rgba="0.796078431372549 0.823529411764706 0.937254901960784 1" />
      </material>
    </visual>
    <collision>
      <origin
        xyz="0 0 0"
        rpy="0 0 0" />
      <geometry>
        <mesh
          filename="package://turtlebot3_pro_max123/meshes/Right_Wheel_collision.STL" />
      </geometry>
    </collision>
  </link>
  <joint
    name="Right_Wheel_Joint"
    type="continuous">
    <origin
      xyz="0 0 0"
      rpy="3.1416 -0.43227 1.5708" />
    <parent
      link="Right_Motor_Shaft" />
    <child
      link="Right_Wheel" />
    <axis
      xyz="0 1 0" />
    <limit
      effort="4.9"
      velocity="10.472" />
  </joint>
  <link
    name="Right_Motor_Plate">
    <inertial>
      <origin
        xyz="0.0142230422275223 0.0140305783109309 -6.95699236973731E-18"
        rpy="0 0 0" />
      <mass
        value="0.0228522301370467" />
      <inertia
        ixx="1.26656359081654E-05"
        ixy="3.36042653670862E-06"
        ixz="1.72069435167697E-21"
        iyy="1.25927964265988E-05"
        iyz="-4.86092998236105E-22"
        izz="1.14147397394386E-05" />
    </inertial>
    <visual>
      <origin
        xyz="0 0 0"
        rpy="0 0 0" />
      <geometry>
        <mesh
          filename="package://turtlebot3_pro_max123/meshes/Right_Motor_Plate.STL" />
      </geometry>
      <material
        name="">
        <color
          rgba="0.792156862745098 0.819607843137255 0.933333333333333 1" />
      </material>
    </visual>
    <collision>
      <origin
        xyz="0 0 0"
        rpy="0 0 0" />
      <geometry>
        <mesh
          filename="package://turtlebot3_pro_max123/meshes/Right_Motor_Plate_collision.STL" />
      </geometry>
    </collision>
  </link>
  <joint
    name="Right_Motor_Plate_Joint"
    type="fixed">
    <origin
      xyz="-0.14 0 0.012"
      rpy="1.5707963267949 0 0" />
    <parent
      link="Ground Floor" />
    <child
      link="Right_Motor_Plate" />
    <axis
      xyz="0 0 0" />
  </joint>
  <link
    name="Right_Motor">
    <inertial>
      <origin
        xyz="-2.08906257029913E-10 -0.0342490788500104 0.0206801558865174"
        rpy="0 0 0" />
      <mass
        value="0.148158669748596" />
      <inertia
        ixx="0.000166100474730073"
        ixy="1.94433964723233E-11"
        ixz="-2.59596085143326E-13"
        iyy="8.88051318091147E-05"
        iyz="3.88331046293827E-05"
        izz="0.000139077222017456" />
    </inertial>
    <visual>
      <origin
        xyz="0 0 0"
        rpy="0 0 0" />
      <geometry>
        <mesh
          filename="package://turtlebot3_pro_max123/meshes/Right_Motor.STL" />
      </geometry>
      <material
        name="">
        <color
          rgba="0.792156862745098 0.819607843137255 0.933333333333333 1" />
      </material>
    </visual>
    <collision>
      <origin
        xyz="0 0 0"
        rpy="0 0 0" />
      <geometry>
        <mesh
          filename="package://turtlebot3_pro_max123/meshes/Right_Motor.STL" />
      </geometry>
    </collision>
  </link>
  <joint
    name="Right_Motor_Joint"
    type="fixed">
    <origin
      xyz="0.0110000000000002 0.027 0"
      rpy="3.1415926535 -1.5707963267949 0" />
    <parent
      link="Right_Motor_Plate" />
    <child
      link="Right_Motor" />
    <axis
      xyz="0 0 0" />
  </joint>
  <link
    name="Right_Motor_Shaft_1">
    <inertial>
      <origin
        xyz="0.0329232788564363 -5.76441713438861E-05 4.146848295667E-17"
        rpy="0 0 0" />
      <mass
        value="0.00321285894925607" />
      <inertia
        ixx="2.54143918564532E-08"
        ixy="-4.70845713561842E-09"
        ixz="-2.24226760769052E-25"
        iyy="1.12774288289305E-06"
        iyz="-3.27313705451804E-25"
        izz="1.12717659926779E-06" />
    </inertial>
    <visual>
      <origin
        xyz="0 0 0"
        rpy="0 0 0" />
      <geometry>
        <mesh
          filename="package://turtlebot3_pro_max123/meshes/Right_Motor_Shaft_1.STL" />
      </geometry>
      <material
        name="">
        <color
          rgba="0.792156862745098 0.819607843137255 0.933333333333333 1" />
      </material>
    </visual>
    <collision>
      <origin
        xyz="0 0 0"
        rpy="0 0 0" />
      <geometry>
        <mesh
          filename="package://turtlebot3_pro_max123/meshes/Right_Motor_Shaft_1_collision.STL" />
      </geometry>
    </collision>
  </link>
  <joint
    name="Right_Motor_Shaft_1_Joint"
    type="fixed">
    <origin
      xyz="0 0 -0.0279999999999999"
      rpy="0 -1.5707963267949 0" />
    <parent
      link="Right_Motor" />
    <child
      link="Right_Motor_Shaft_1" />
    <axis
      xyz="1 0 0" />
    <limit
      lower="0"
      upper="0"
      effort="4.9"
      velocity="10.472" />
  </joint>
</robot>
